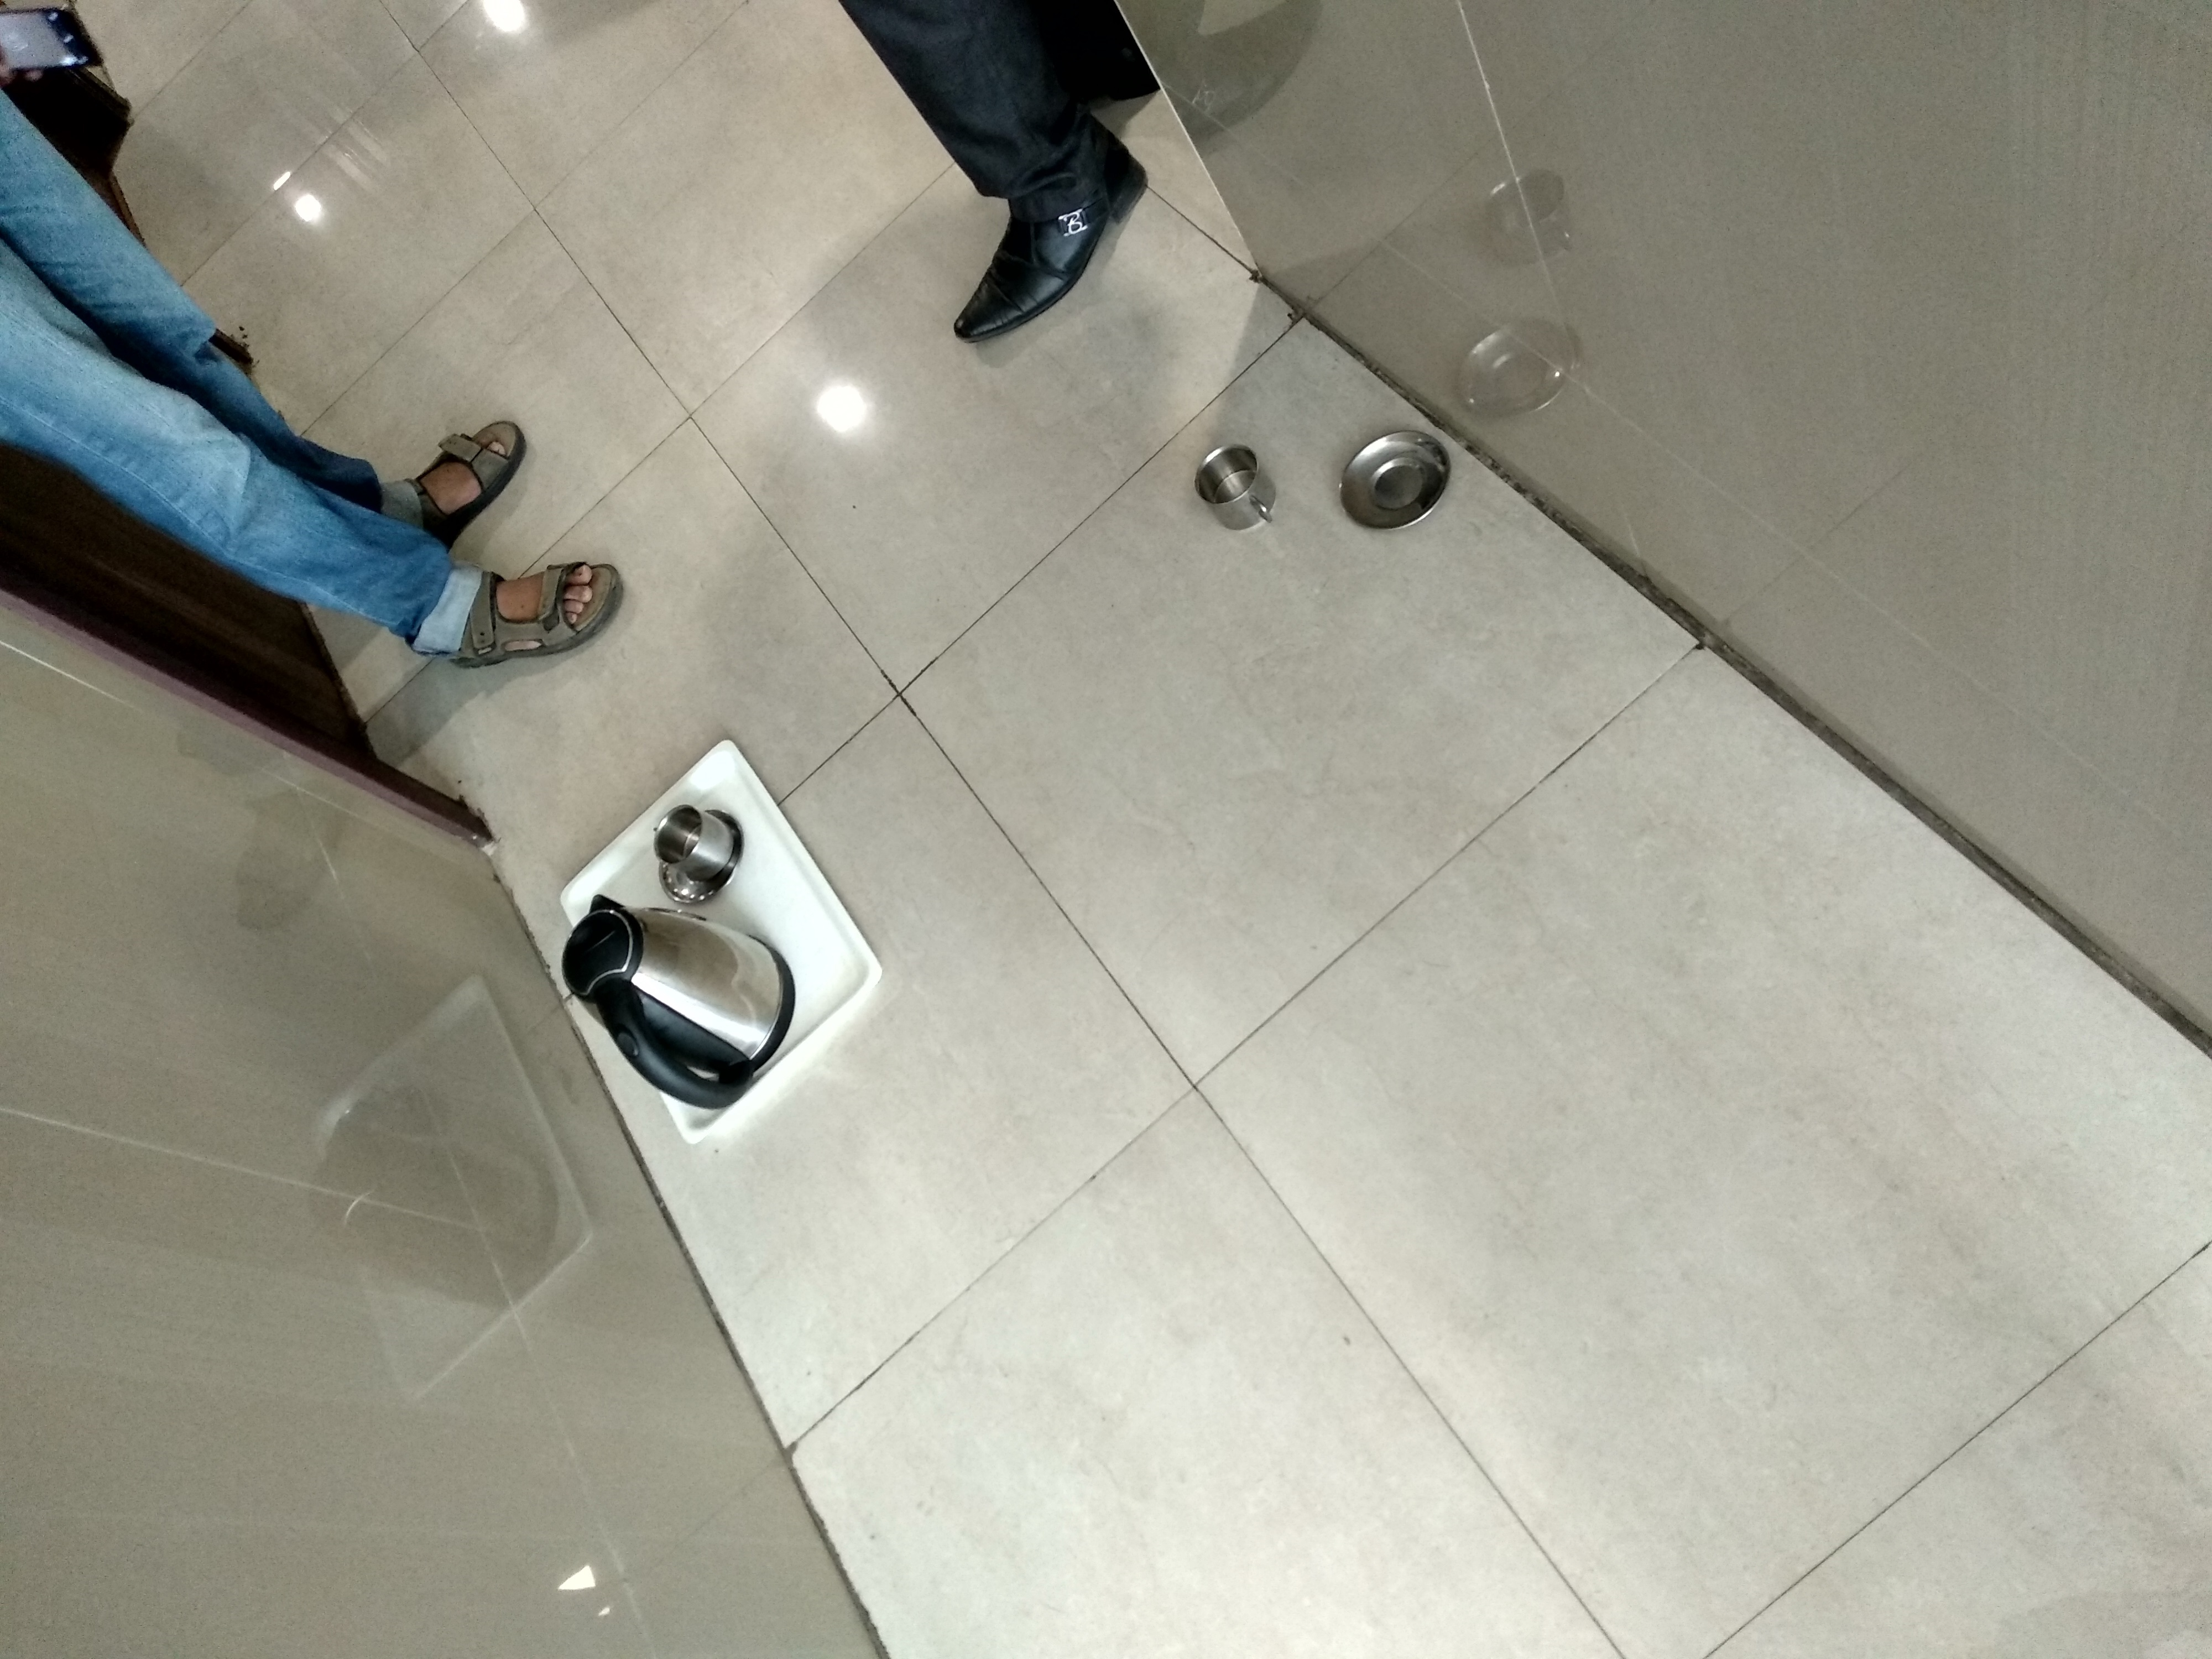CUP: (653, 814, 738, 884), (1198, 450, 1261, 535)
FLASK: (566, 897, 791, 1101)
